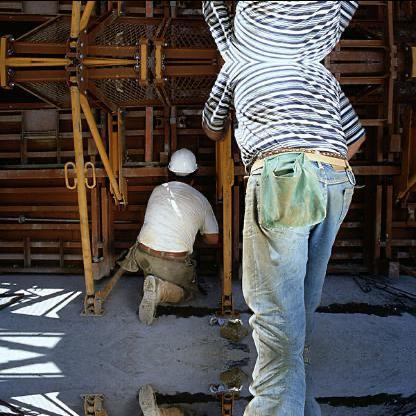Helmet: (166, 144, 198, 186)
